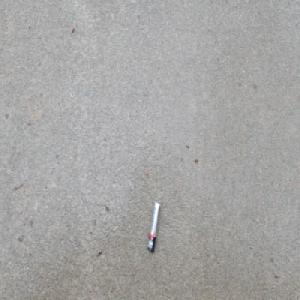Battery: (146, 198, 160, 254)
